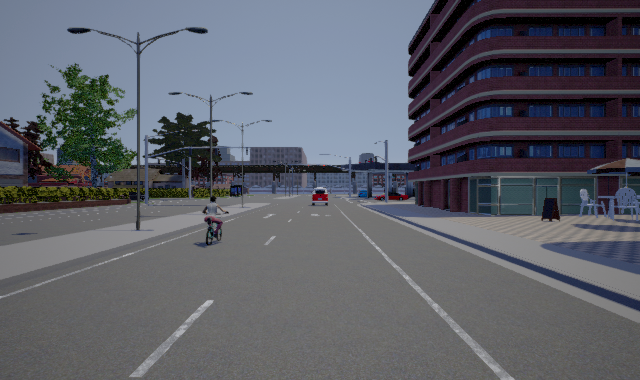bike: (200, 195, 230, 246)
vehicle: (311, 187, 329, 206)
